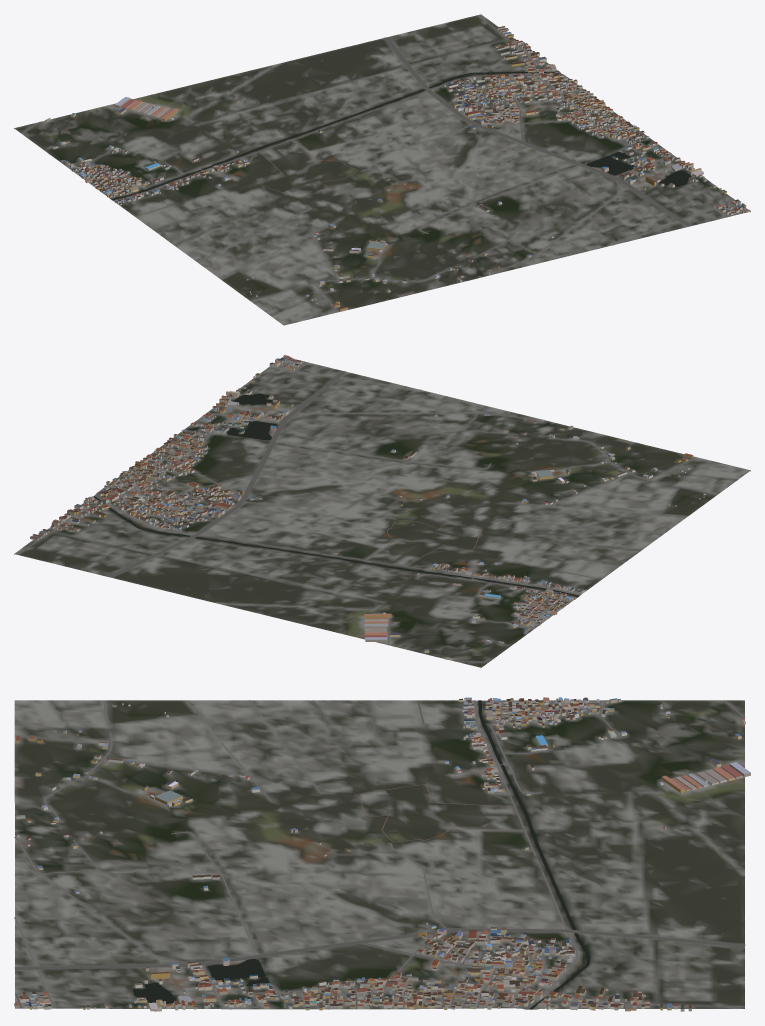
3 renders of one model, top to bottom at view 1: azimuth 30°, elevation 25°; view 2: azimuth 150°, elevation 25°; view 3: azimuth 270°, elevation 25°, orthographic. The views are drawn at different scales.
Parts seen in each view (by area): view 1: ground, buildings, roads, water; view 2: ground, buildings, roads, water; view 3: ground, buildings, roads, water.
Boxes of the visible parts, x1=… form: ground: x1=14, y1=14, x2=750, y2=325; buildings: x1=45, y1=26, x2=750, y2=311; roads: x1=21, y1=15, x2=741, y2=312; water: x1=111, y1=72, x2=690, y2=200; ground: x1=14, y1=356, x2=750, y2=667; buildings: x1=30, y1=355, x2=705, y2=659; roads: x1=17, y1=358, x2=717, y2=662; water: x1=93, y1=393, x2=578, y2=596; ground: x1=14, y1=700, x2=744, y2=1009; buildings: x1=14, y1=697, x2=750, y2=1011; roads: x1=14, y1=700, x2=745, y2=1009; water: x1=133, y1=700, x2=590, y2=1009.
Size of the model in its own units: 1419 by 15.79 by 1415.
